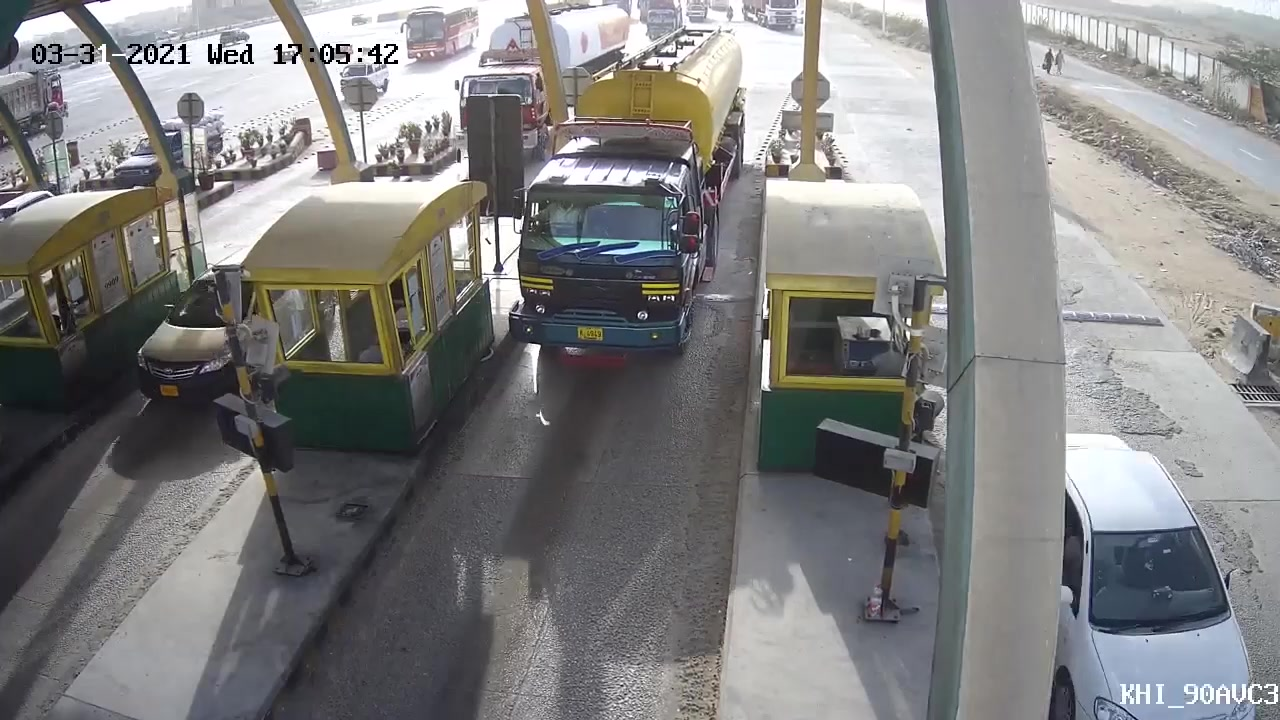F6: (515, 26, 754, 371)
